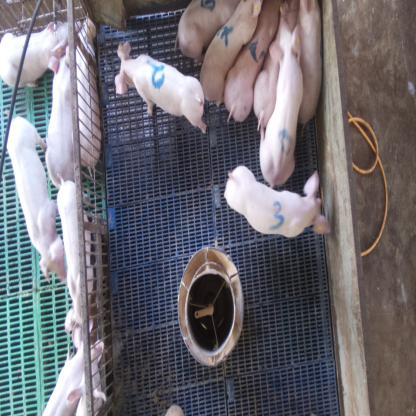2: (146, 58, 166, 90)
3: (270, 201, 284, 231)
5: (249, 39, 265, 71)
7: (216, 25, 233, 47)
N-A: (278, 129, 292, 154)
